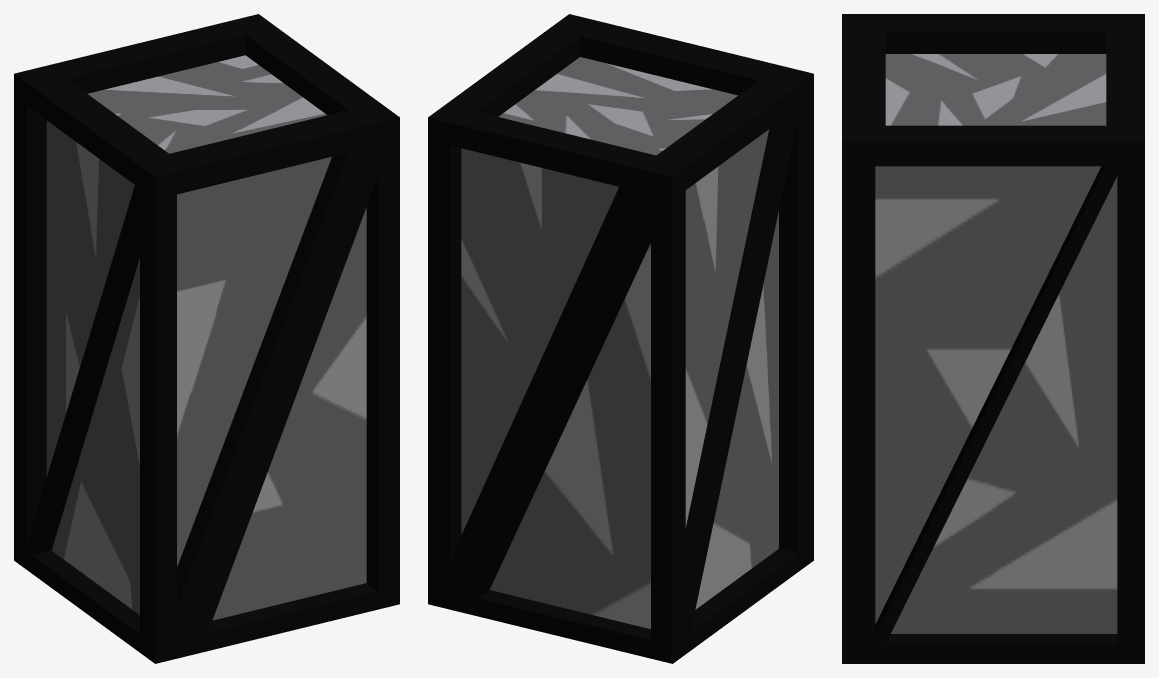
File: PRSW_CajaM.FBX
3 renders of one model, left to right at view 1: azimuth 30°, elevation 25°; view 2: azimuth 150°, elevation 25°; view 3: azimuth 270°, elevation 25°, orthographic. The views are drawn at different scales.
Parts seen in each view (by area): view 1: PRSW_CajaM; view 2: PRSW_CajaM; view 3: PRSW_CajaM.
Part boxes in pixels (box(x1,y1,x2,y2)): PRSW_CajaM: box(14, 14, 399, 663); PRSW_CajaM: box(428, 14, 813, 663); PRSW_CajaM: box(842, 14, 1144, 663).
Size of the model in its own units: 1 by 1.9 by 1.
